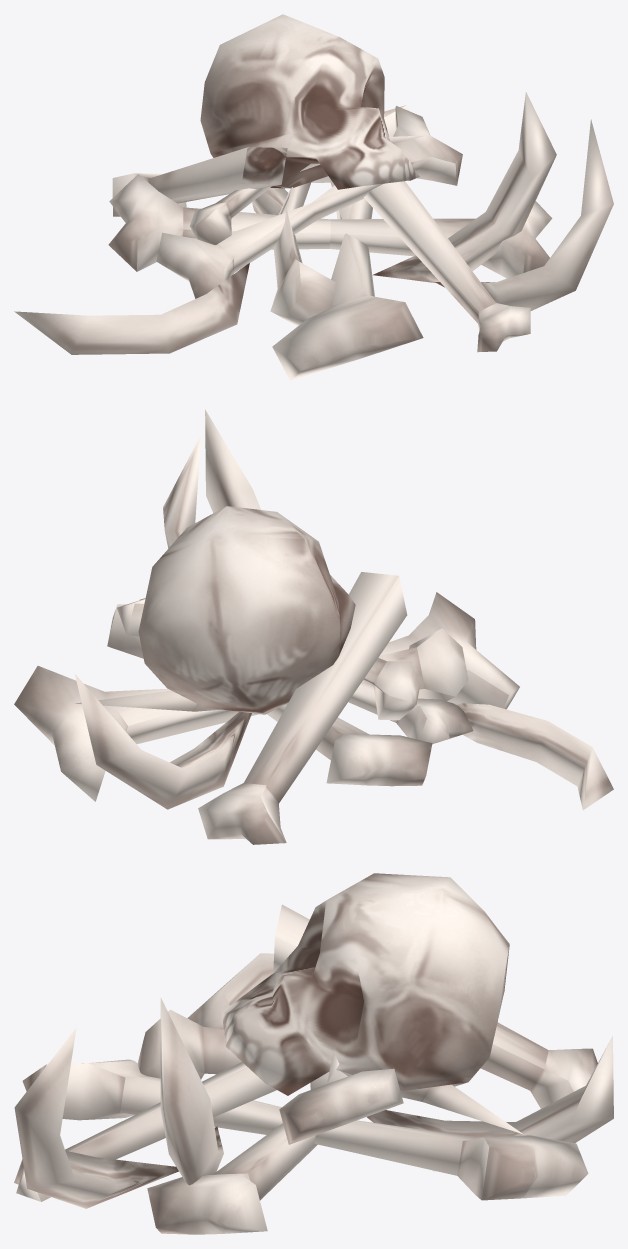
The model's file is bone_pile.glb.
3 renders of one model, top to bottom at view 1: azimuth 30°, elevation 25°; view 2: azimuth 150°, elevation 25°; view 3: azimuth 270°, elevation 25°, orthographic. The views are drawn at different scales.
Visible parts, largest first — view 1: skelruin; view 2: skelruin; view 3: skelruin.
Boxes of the visible parts, x1,y1,x2,y2 form: skelruin: [14, 14, 613, 380]; skelruin: [14, 409, 613, 844]; skelruin: [14, 873, 613, 1234].
Size of the model in its own units: 85.93 by 40.98 by 75.4.
Materials: 1 (1 with a texture image).
